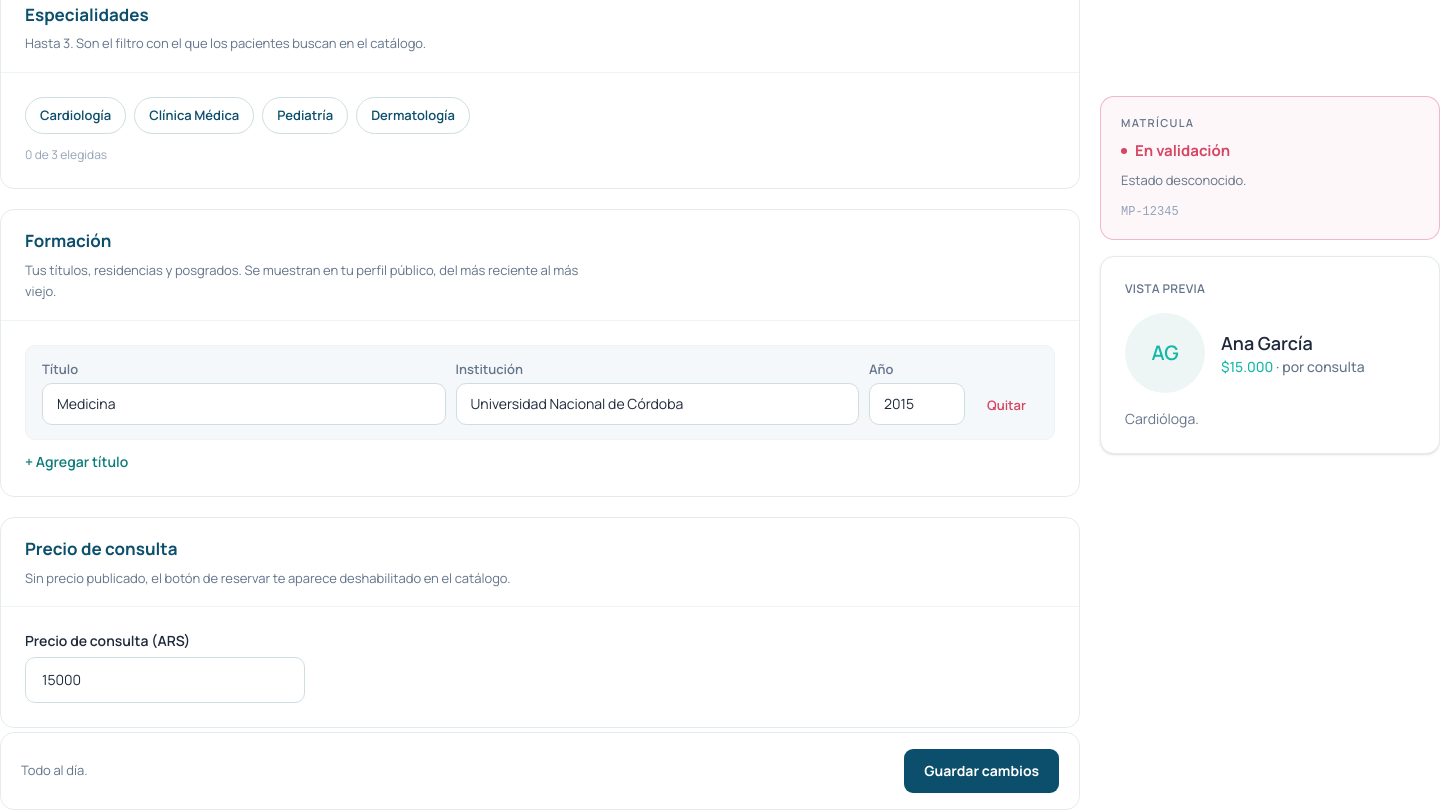
Scenario: ProfessionalProfileForm › formación (ENG-48) › quitar todos los títulos manda la lista vacía, para que el backend los borre
(page scrolled)
Expected: the field showing "Medicina" is shown, [42, 383, 446, 425]
Step 1. Click the button with aria-label "Quitar el título 1" → click(1006, 405), box [975, 386, 1038, 425]
(page scrolled)
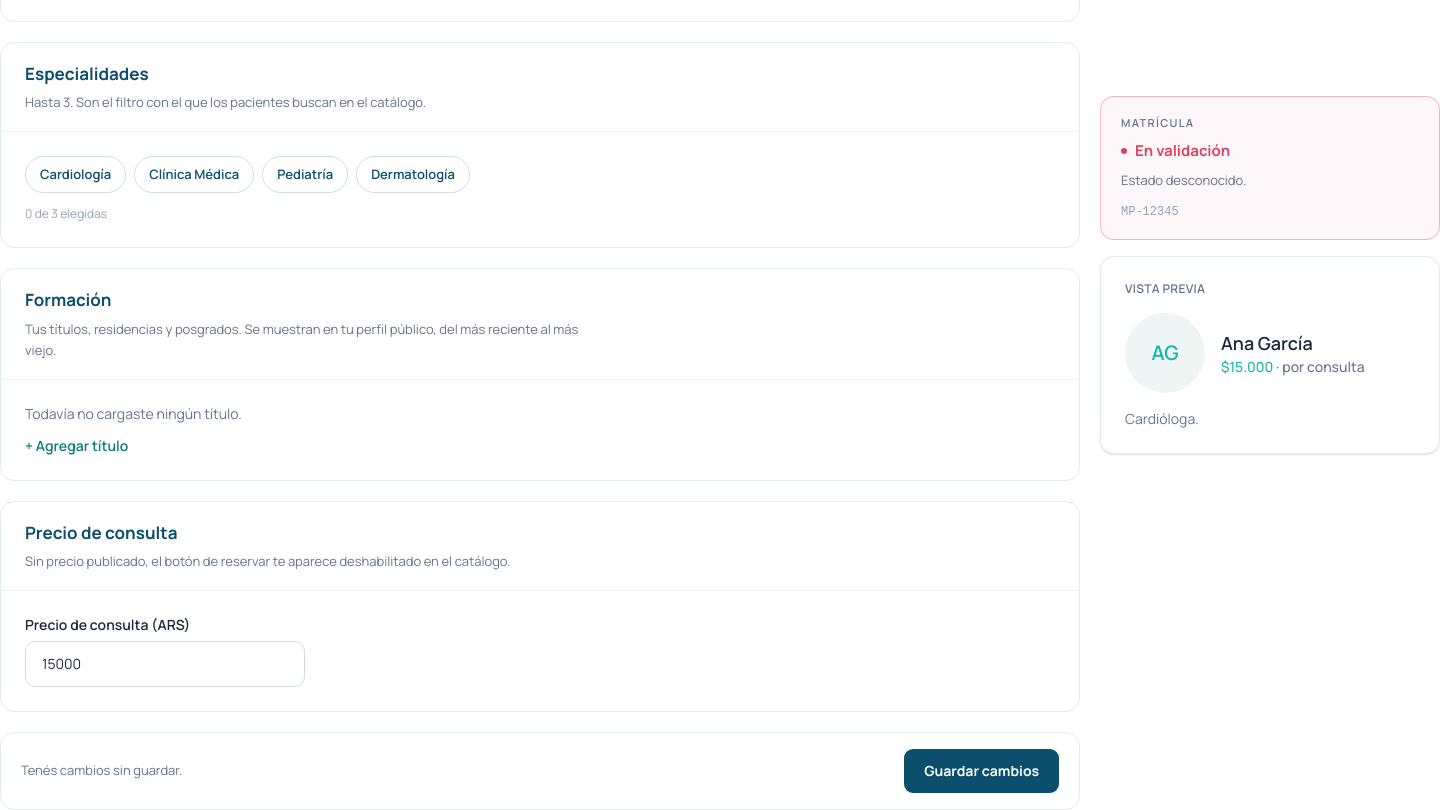
Now the text "Todavía no cargaste ningún título." is shown, box [25, 404, 242, 422]
Step 2. Click the button "Guardar cambios" → click(982, 771), box [904, 749, 1059, 793]
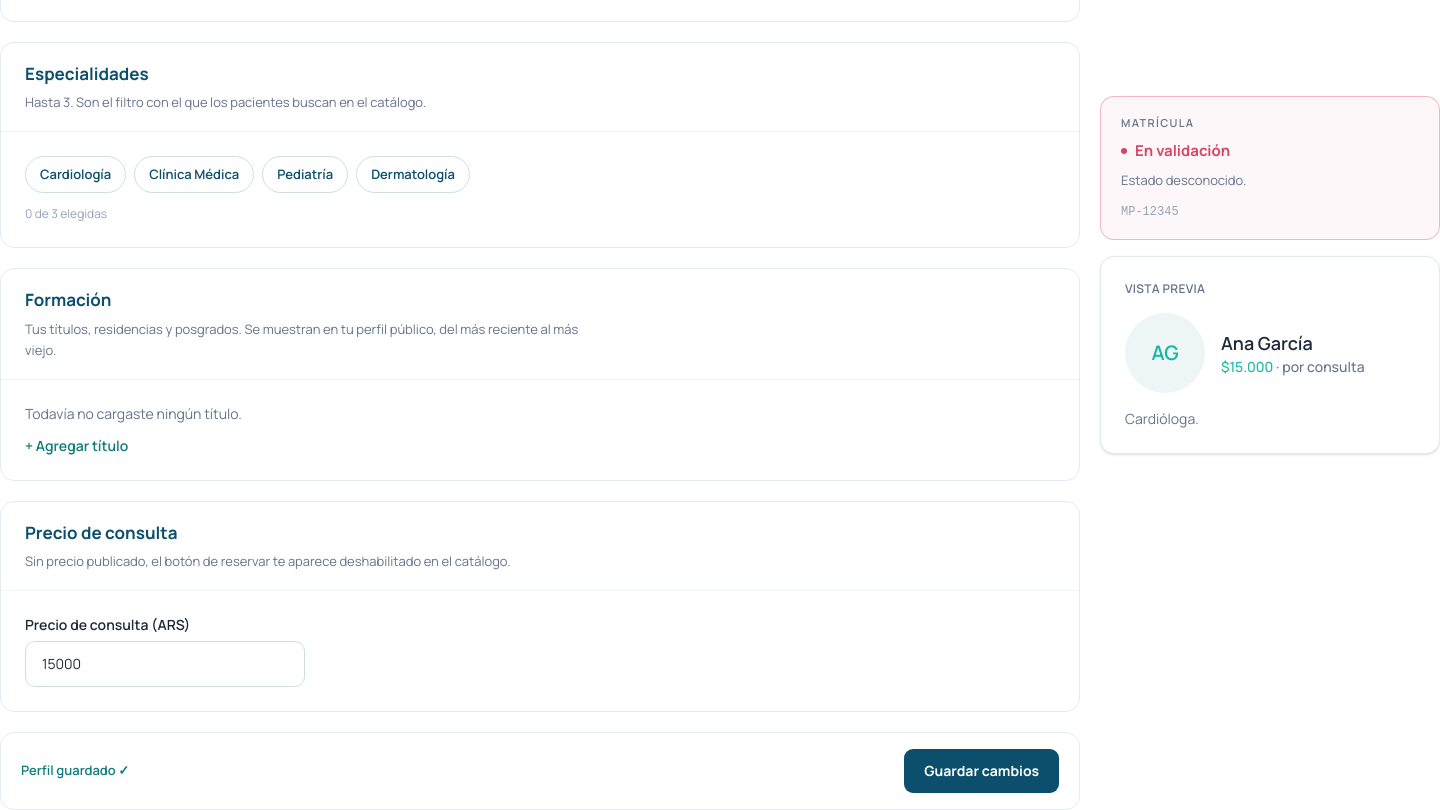
Now the message "Perfil guardado ✓" is shown, box [21, 761, 129, 779]
